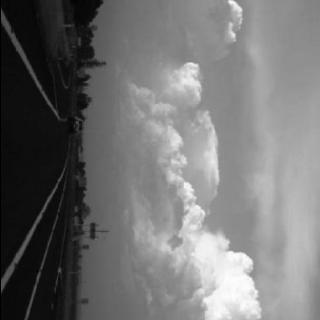Cumulonimbus: (104, 0, 265, 320)
